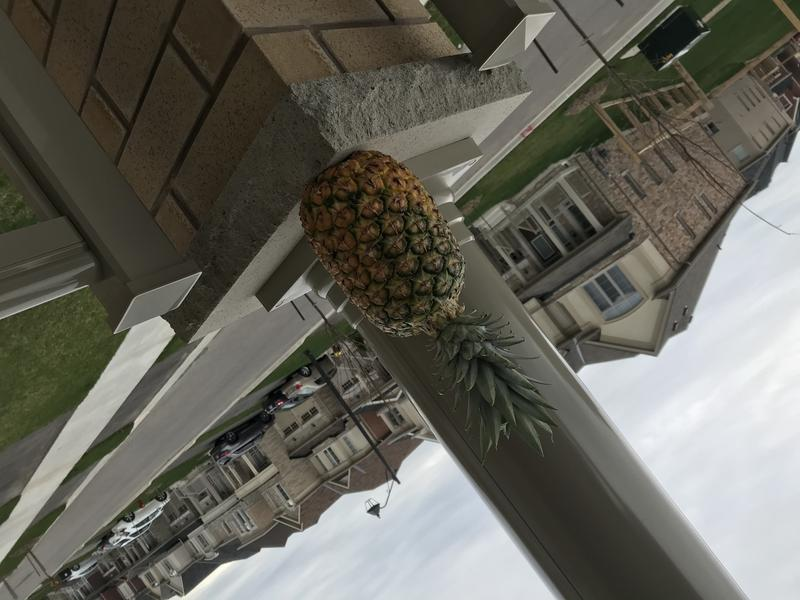pineapple: (292, 138, 564, 472)
